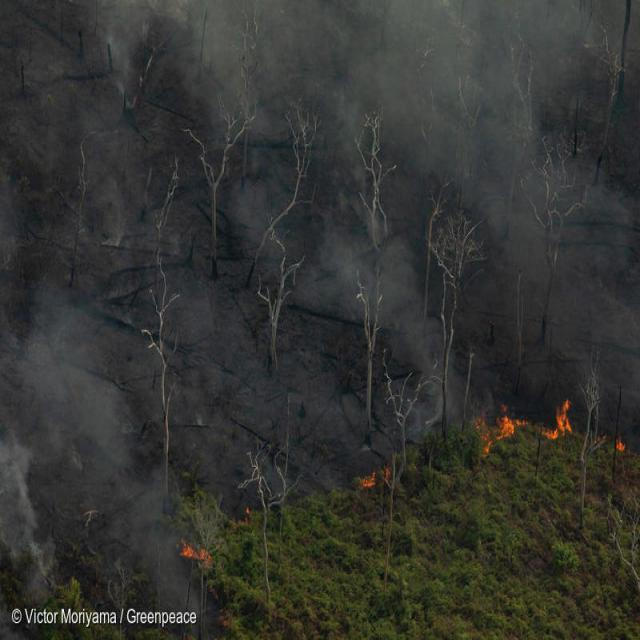Fire: (472, 392, 570, 462), (356, 450, 388, 492), (171, 544, 219, 560), (614, 434, 628, 450)
